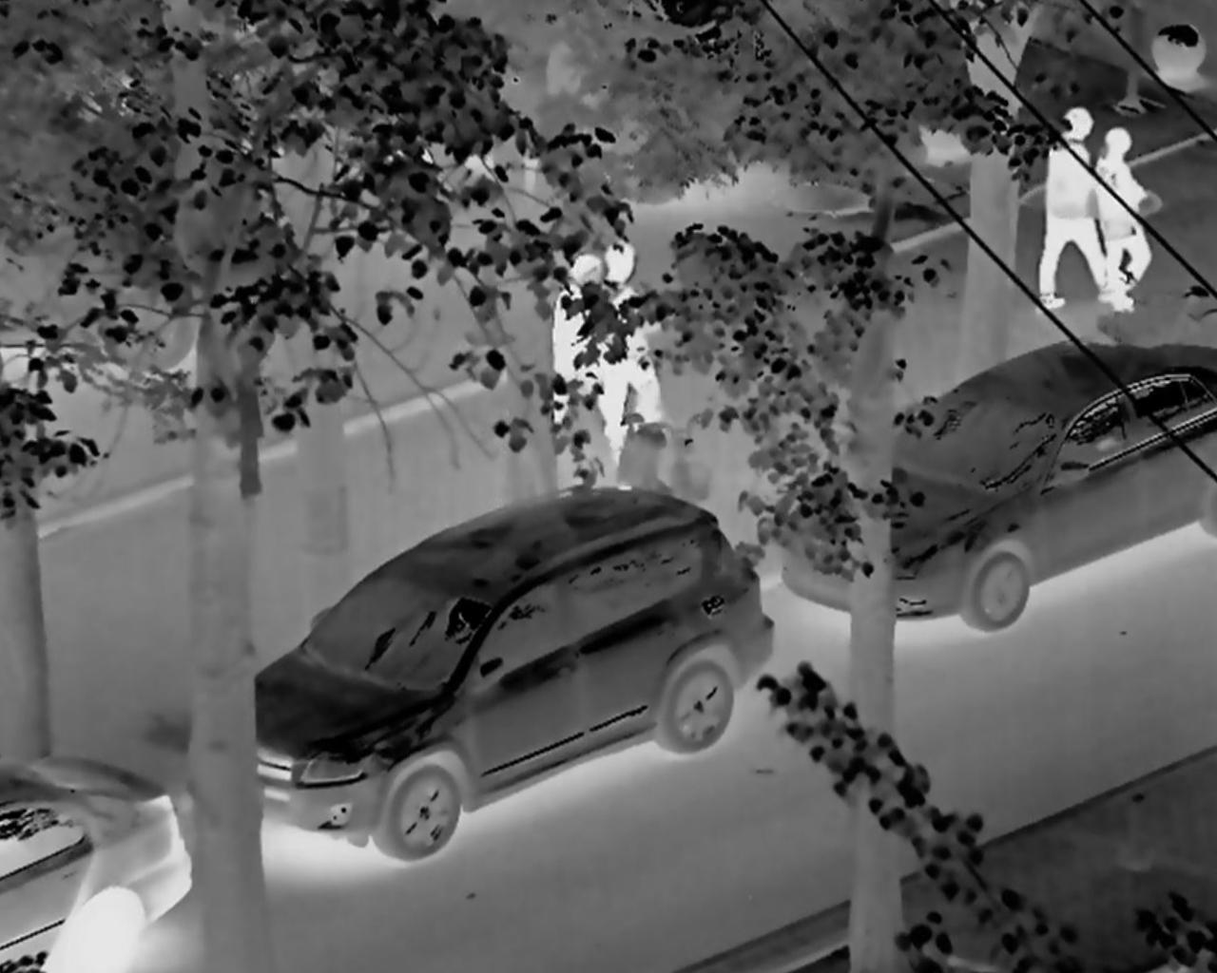person: (599, 234, 673, 473), (1043, 99, 1106, 321), (549, 241, 617, 444), (1090, 124, 1153, 327)
